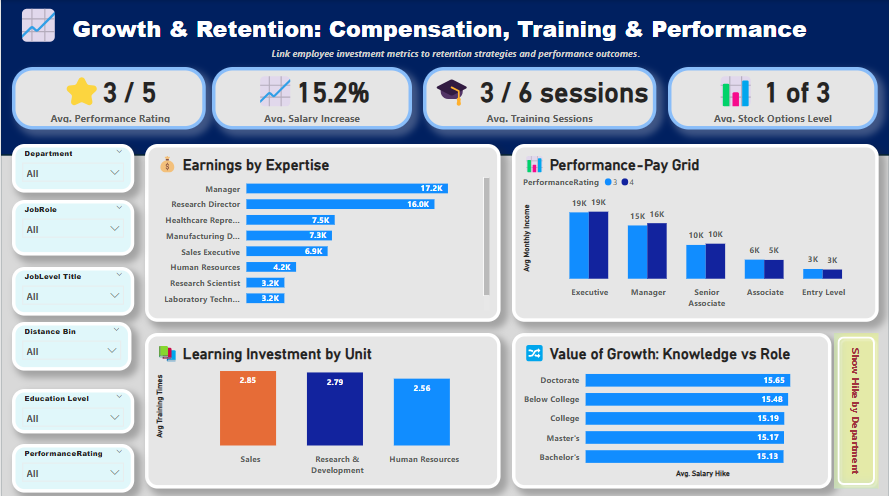

What the dashboard file says about the page in this screenshot:
{"tool":"powerbi","page":{"name":"Compensation & Development","canvas":[1280,720],"ordinal":2},"visuals":[{"type":"card","fields":{"Values":["HR Analytics Data.Avg_PerformanceRating_Formatted"]},"box":[16,96,279,90],"z":0},{"type":"card","fields":{"Values":["HR Analytics Data.Avg_SalaryHike_Formatted"]},"box":[304,96,288,90],"z":1000},{"type":"card","fields":{"Values":["HR Analytics Data.Avg_TrainingTimesLastYear_Formatted"]},"box":[608,96,336,90],"z":2000},{"type":"card","fields":{"Values":["HR Analytics Data.Avg_StockOptionLevel_Formatted"]},"box":[960,96,302,90],"z":3000},{"type":"clusteredBarChart","title":"💰 Earnings by Expertise","fields":{"Y":["Avg(HR Analytics Data.MonthlyIncome)"],"Category":["HR Analytics Data.JobRole"]},"box":[208,208,512,256],"z":4000},{"type":"clusteredColumnChart","title":"📚 Learning Investment by Unit","fields":{"Category":["HR Analytics Data.Department"],"Y":["Avg(HR Analytics Data.TrainingTimesLastYear)"]},"box":[208,480,512,224],"z":5000},{"type":"clusteredBarChart","title":"🔀 Value of Growth: Knowledge vs Role","fields":{"Category":["HR Analytics Data.Education Level"],"Y":["Avg(HR Analytics Data.PercentSalaryHike)"]},"box":[736,480,460,224],"z":6000},{"type":"actionButton","title":"Education","box":[1200,480,64,224],"z":9000},{"type":"clusteredColumnChart","title":"📊 Performance-Pay Grid","fields":{"Series":["HR Analytics Data.PerformanceRating"],"Y":["Avg(HR Analytics Data.MonthlyIncome)"],"Category":["HR Analytics Data.JobLevel Title"]},"box":[736,208,528,256],"z":10000},{"type":"slicer","fields":{"Values":["HR Analytics Data.Department"]},"box":[16,208,176,70],"z":11000},{"type":"slicer","fields":{"Values":["HR Analytics Data.JobRole"]},"box":[16,288,176,80],"z":12000},{"type":"slicer","fields":{"Values":["HR Analytics Data.JobLevel Title"]},"box":[16,384,176,70],"z":13000},{"type":"slicer","fields":{"Values":["HR Analytics Data.Distance Bin"]},"box":[16,464,172,70],"z":14000},{"type":"slicer","fields":{"Values":["HR Analytics Data.Education Level"]},"box":[16,560,176,64],"z":15000},{"type":"slicer","fields":{"Values":["HR Analytics Data.PerformanceRating"]},"box":[16,640,176,70],"z":16000},{"type":"textbox","box":[0,0,1280,128],"z":17000},{"type":"textbox","box":[384,64,560,32],"z":17001}]}

Visuals, with their boxes in screenshot pixels (x1, y1, x2, y2), scaled from the page's 1280x720 canvas onto the 889x496 screenshot:
card - HR Analytics Data.Avg_PerformanceRating_Formatted: [x1=11, y1=66, x2=205, y2=128]
card - HR Analytics Data.Avg_SalaryHike_Formatted: [x1=211, y1=66, x2=411, y2=128]
card - HR Analytics Data.Avg_TrainingTimesLastYear_Formatted: [x1=422, y1=66, x2=656, y2=128]
card - HR Analytics Data.Avg_StockOptionLevel_Formatted: [x1=667, y1=66, x2=876, y2=128]
"💰 Earnings by Expertise" clusteredBarChart: [x1=144, y1=143, x2=500, y2=320]
"📚 Learning Investment by Unit" clusteredColumnChart: [x1=144, y1=331, x2=500, y2=485]
"🔀 Value of Growth: Knowledge vs Role" clusteredBarChart: [x1=511, y1=331, x2=831, y2=485]
"Education" actionButton: [x1=833, y1=331, x2=878, y2=485]
"📊 Performance-Pay Grid" clusteredColumnChart: [x1=511, y1=143, x2=878, y2=320]
slicer - HR Analytics Data.Department: [x1=11, y1=143, x2=133, y2=192]
slicer - HR Analytics Data.JobRole: [x1=11, y1=198, x2=133, y2=254]
slicer - HR Analytics Data.JobLevel Title: [x1=11, y1=265, x2=133, y2=313]
slicer - HR Analytics Data.Distance Bin: [x1=11, y1=320, x2=131, y2=368]
slicer - HR Analytics Data.Education Level: [x1=11, y1=386, x2=133, y2=430]
slicer - HR Analytics Data.PerformanceRating: [x1=11, y1=441, x2=133, y2=489]
textbox: [x1=0, y1=0, x2=888, y2=88]
textbox: [x1=267, y1=44, x2=656, y2=66]
